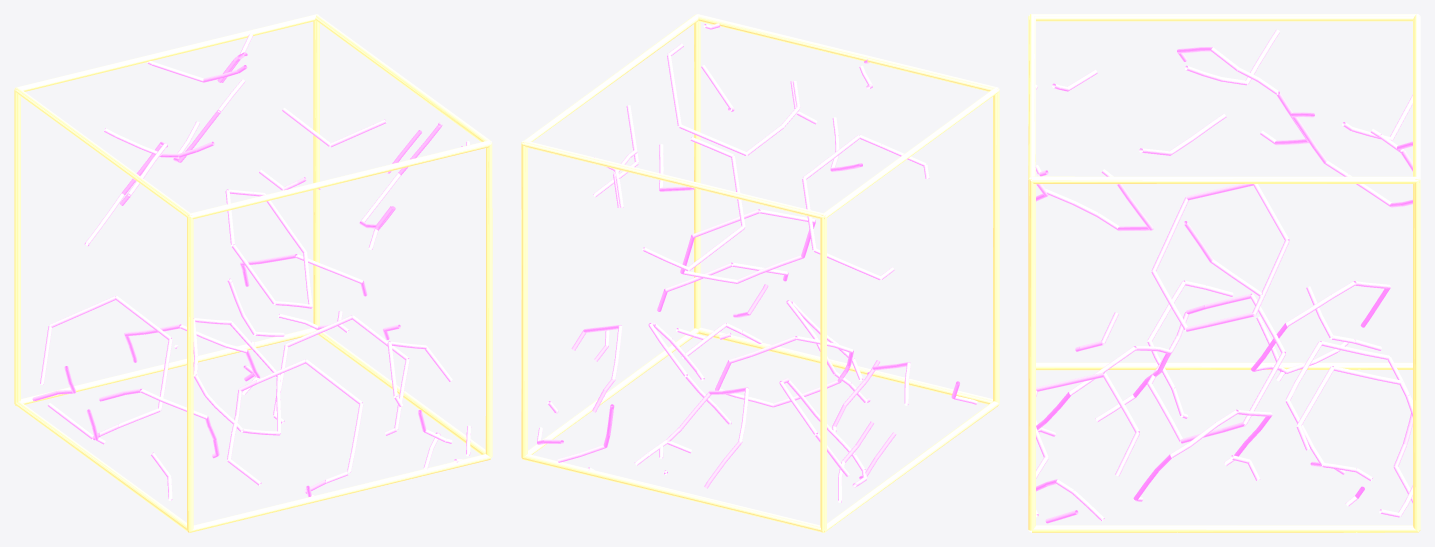
Rendered from dislocation100.glb.
3 views of the same model, side by side, from view 1: azimuth 30°, elevation 25°; view 2: azimuth 150°, elevation 25°; view 3: azimuth 270°, elevation 25° (orthographic). The views are drawn at different scales.
Parts seen in each view (by area): view 1: Shape_IndexedLineSet, Shape_IndexedLineSet.001; view 2: Shape_IndexedLineSet, Shape_IndexedLineSet.001; view 3: Shape_IndexedLineSet.001, Shape_IndexedLineSet.
Part boxes in pixels (x1,y1,x2,y2): Shape_IndexedLineSet: (14,14,492,532); Shape_IndexedLineSet.001: (32,34,471,500); Shape_IndexedLineSet: (521,14,999,532); Shape_IndexedLineSet.001: (536,23,977,502); Shape_IndexedLineSet.001: (1035,29,1413,523); Shape_IndexedLineSet: (1028,14,1420,532).
Bounding box in the file's own units: 1.02 × 1.02 × 1.02.
